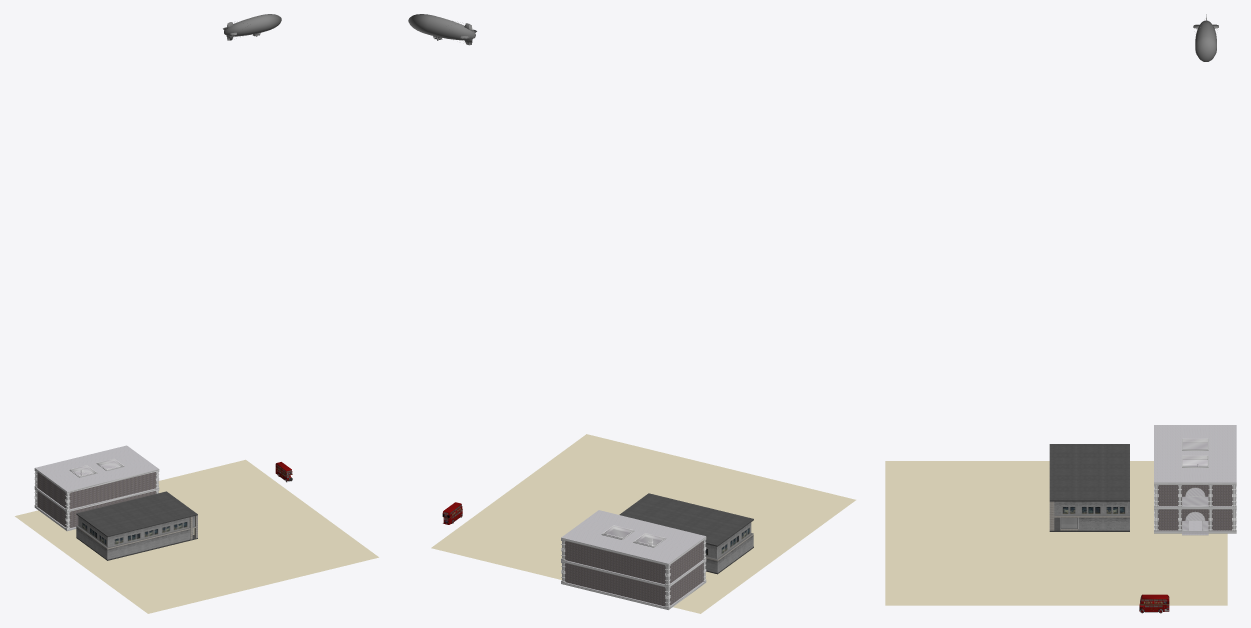
3 views of the same model, side by side, from view 1: azimuth 30°, elevation 25°; view 2: azimuth 150°, elevation 25°; view 3: azimuth 270°, elevation 25° (orthographic). The views are drawn at different scales.
Visible parts, largest first — view 1: Terrain 5,6, Terrain 4,6, Terrain 5,7, SC - SMBLDG03AV2 - Building 03AV2, Big warehouse building, Terrain 4,7, prim0-mesh; view 2: SC - SMBLDG03AV2 - Building 03AV2, Terrain 5,6, Terrain 5,7, Terrain 4,6, Big warehouse building, Terrain 4,7, prim0-mesh; view 3: Terrain 5,6, Terrain 5,7, Terrain 4,6, SC - SMBLDG03AV2 - Building 03AV2, Big warehouse building, Terrain 4,7, prim0-mesh, SC - SMBLD01 - floor, London Bus - RAKis World.
Boxes of the visible parts, bbox=[...] form: Terrain 5,6: bbox=[198, 508, 378, 585]; Terrain 4,6: bbox=[81, 538, 263, 613]; Terrain 5,7: bbox=[158, 459, 312, 536]; SC - SMBLDG03AV2 - Building 03AV2: bbox=[34, 445, 159, 531]; Big warehouse building: bbox=[76, 491, 197, 560]; Terrain 4,7: bbox=[15, 510, 104, 564]; prim0-mesh: bbox=[224, 14, 281, 40]; SC - SMBLDG03AV2 - Building 03AV2: bbox=[561, 510, 706, 609]; Terrain 5,6: bbox=[509, 434, 720, 514]; Terrain 5,7: bbox=[431, 491, 594, 579]; Terrain 4,6: bbox=[677, 467, 855, 556]; Big warehouse building: bbox=[619, 493, 753, 574]; Terrain 4,7: bbox=[673, 550, 777, 613]; prim0-mesh: bbox=[408, 14, 475, 44]; Terrain 5,6: bbox=[885, 533, 1056, 605]; Terrain 5,7: bbox=[1056, 533, 1227, 605]; Terrain 4,6: bbox=[885, 461, 1056, 533]; SC - SMBLDG03AV2 - Building 03AV2: bbox=[1154, 425, 1236, 533]; Big warehouse building: bbox=[1049, 444, 1129, 531]; Terrain 4,7: bbox=[1056, 461, 1153, 533]; prim0-mesh: bbox=[1193, 15, 1218, 61]; SC - SMBLD01 - floor: bbox=[1171, 488, 1224, 509]; London Bus - RAKis World: bbox=[1139, 594, 1169, 612].
Bounding box in the file's own units: 143 × 237 × 131.
77 materials, 69 textured.
